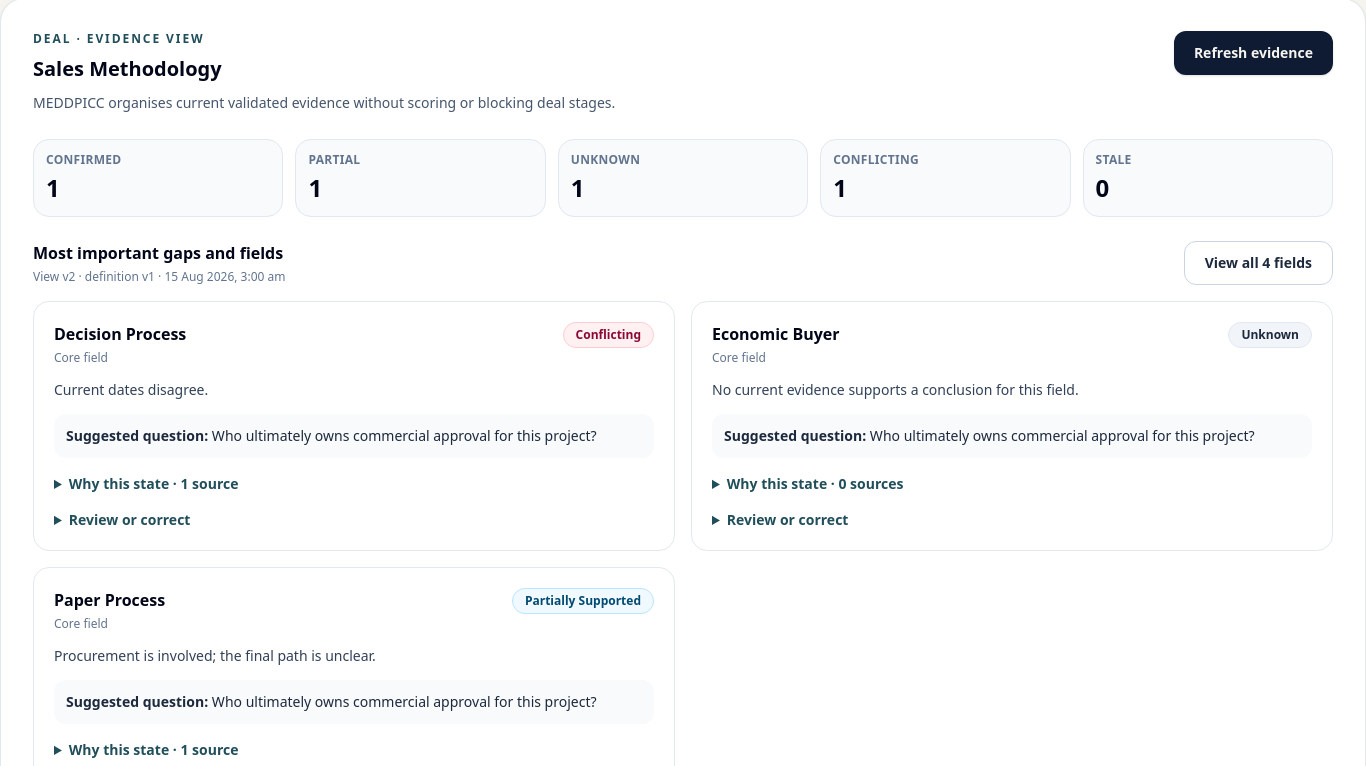
Test case: OpportunityMethodology › leads with plain-language gaps and reveals lineage progressively
Expected: the heading "Sales Methodology" is shown, x1=33 y1=55 x2=222 y2=82
Expected: the text "without scoring or blocking deal stages" is shown, x1=33 y1=93 x2=615 y2=112
Click the button "View all 4 fields" at (1258, 263), box x1=1184 y1=241 x2=1333 y2=285
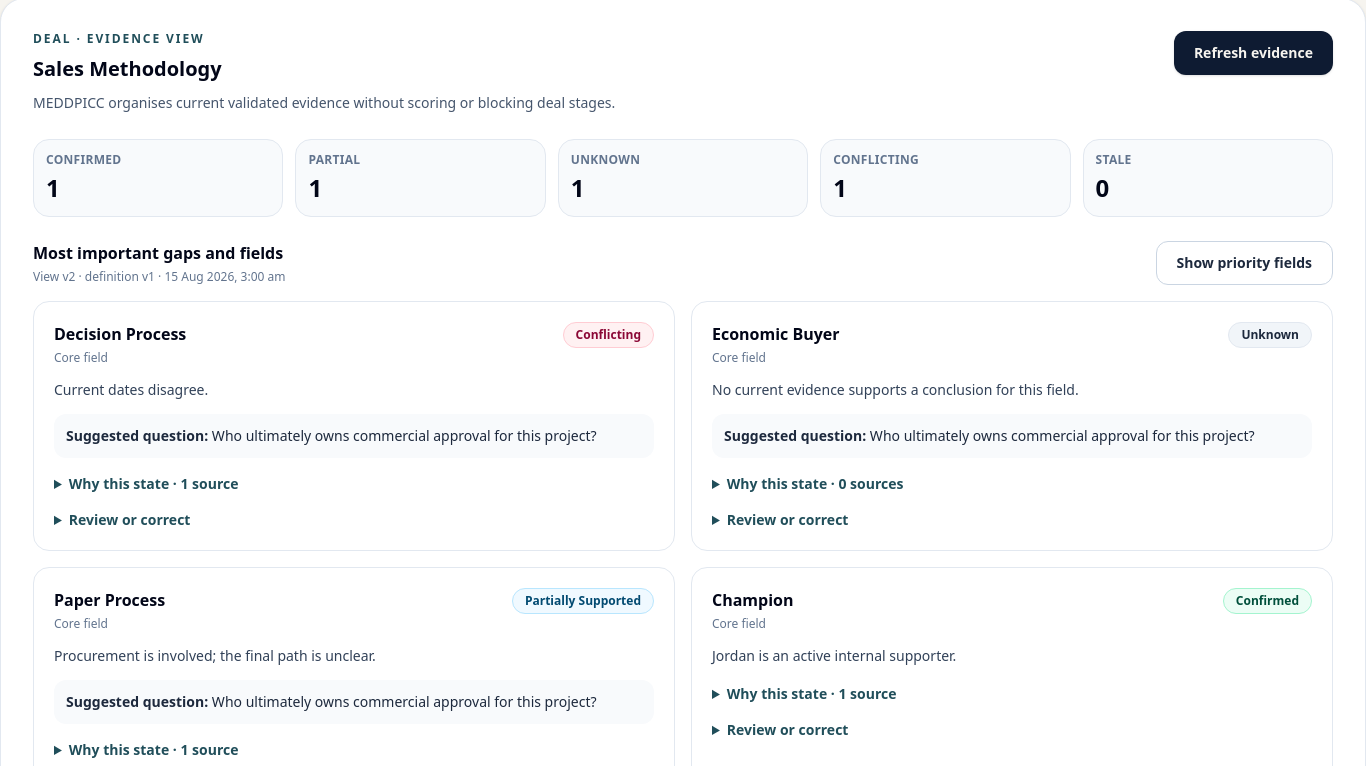
Result: the list item "Champion" is shown at x1=712 y1=589 x2=794 y2=611
Result: the text "Confirmed" in the row of "Champion" is shown at x1=1236 y1=592 x2=1299 y2=609
Click the heading "Why this state · 1 source" below "Champion" at (812, 694), box x1=727 y1=684 x2=896 y2=703
(page scrolled)
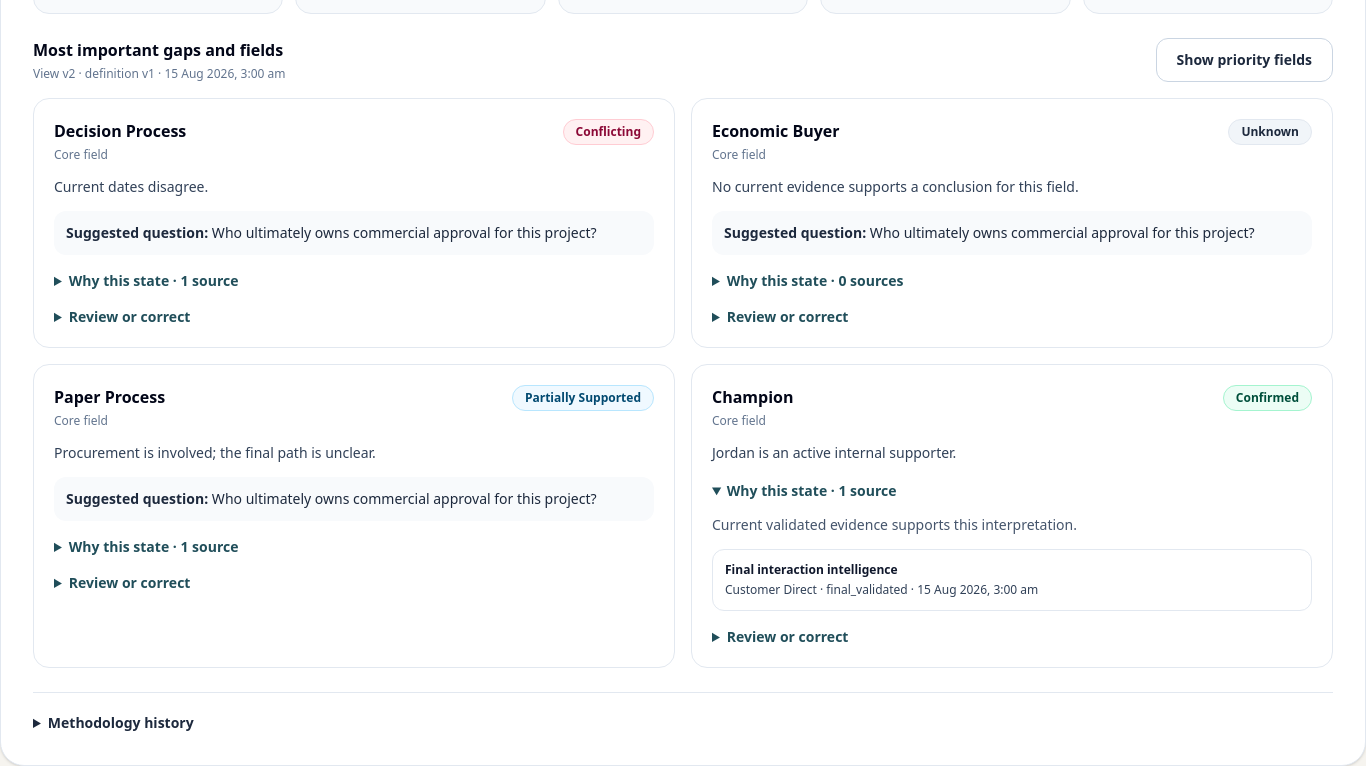
Result: the text "Final interaction intelligence" is shown at x1=725 y1=561 x2=898 y2=578
Result: the text "Customer Direct · final_validated · 15 Aug 2026, 3:00 am" is shown at x1=725 y1=581 x2=1038 y2=598
